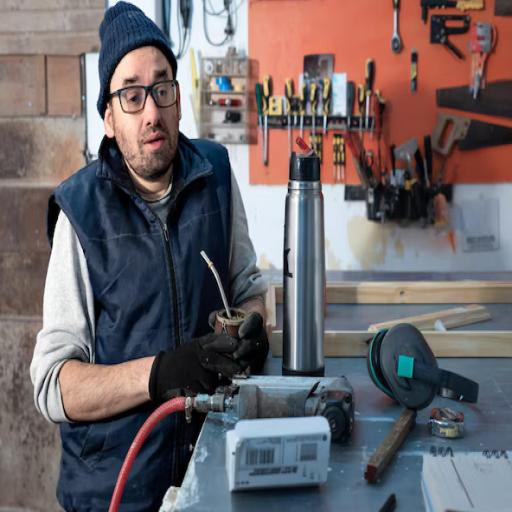termo: (278, 133, 328, 375)
